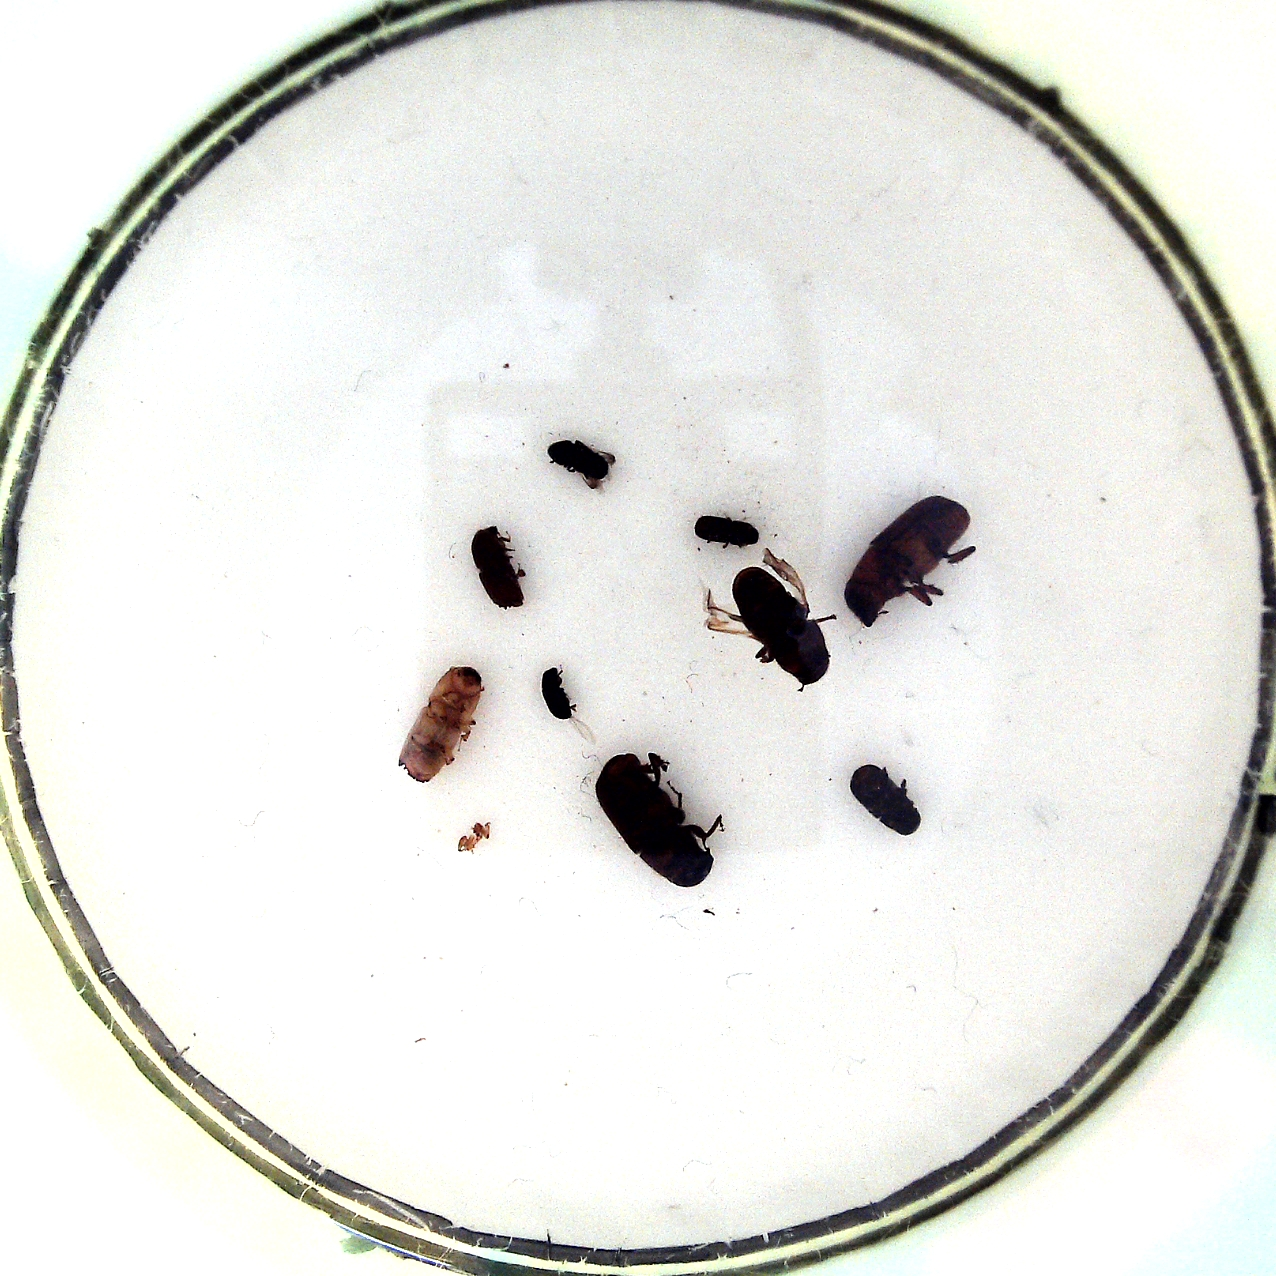Boerner: (390, 657, 492, 788)
Leconte: (834, 493, 990, 633), (698, 542, 839, 688), (588, 744, 728, 892)
Linnaeus: (467, 520, 529, 616)
armandi: (844, 760, 925, 839)
coleoptera: (539, 661, 599, 751), (542, 434, 624, 500), (688, 506, 772, 552)
